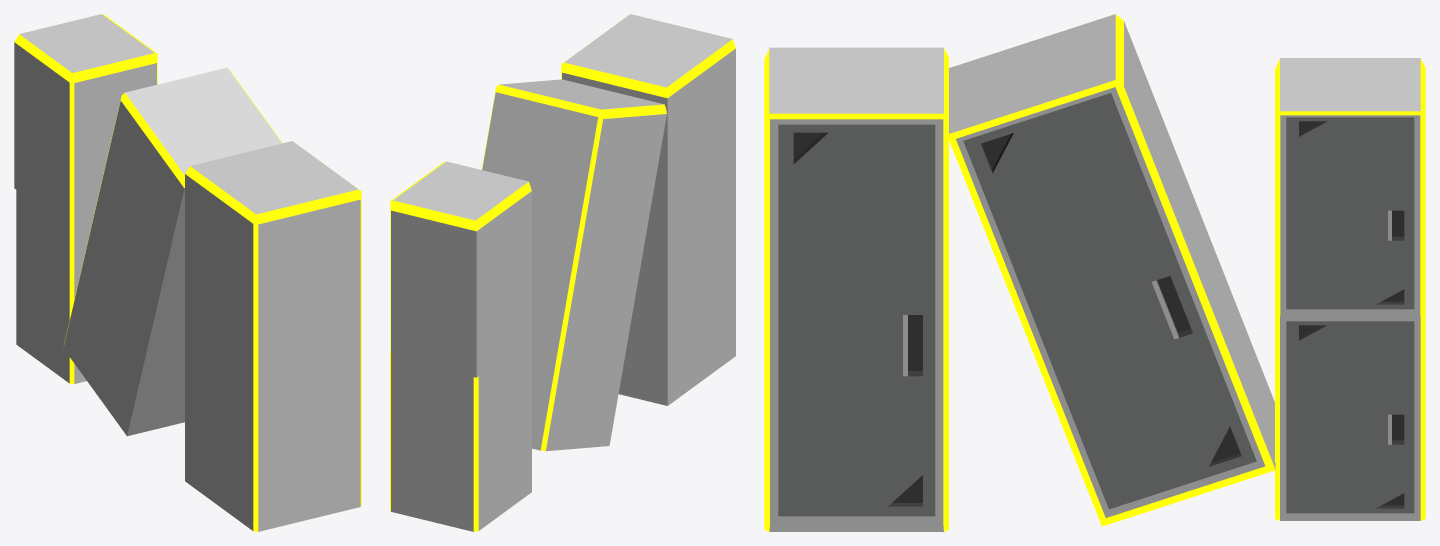
The model's file is OF[obsDis]_Taquillas.fbx.
The picture shows the model from 3 angles, left to right: view 1: azimuth 30°, elevation 25°; view 2: azimuth 150°, elevation 25°; view 3: azimuth 270°, elevation 25°; orthographic projection. The views are drawn at different scales.
Visible parts, largest first — view 1: Cube.004; view 2: Cube.004; view 3: Cube.004.
Boxes of the visible parts, x1,y1,x2,y2 form: Cube.004: (14, 14, 361, 531); Cube.004: (390, 14, 735, 531); Cube.004: (764, 14, 1425, 531).
Bounding box in the file's own units: 56.94 × 172 × 228.
